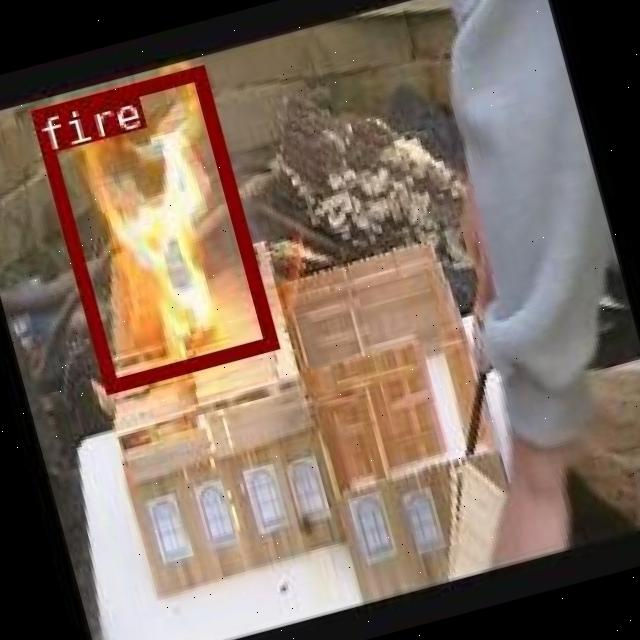fire: (28, 64, 276, 392)
